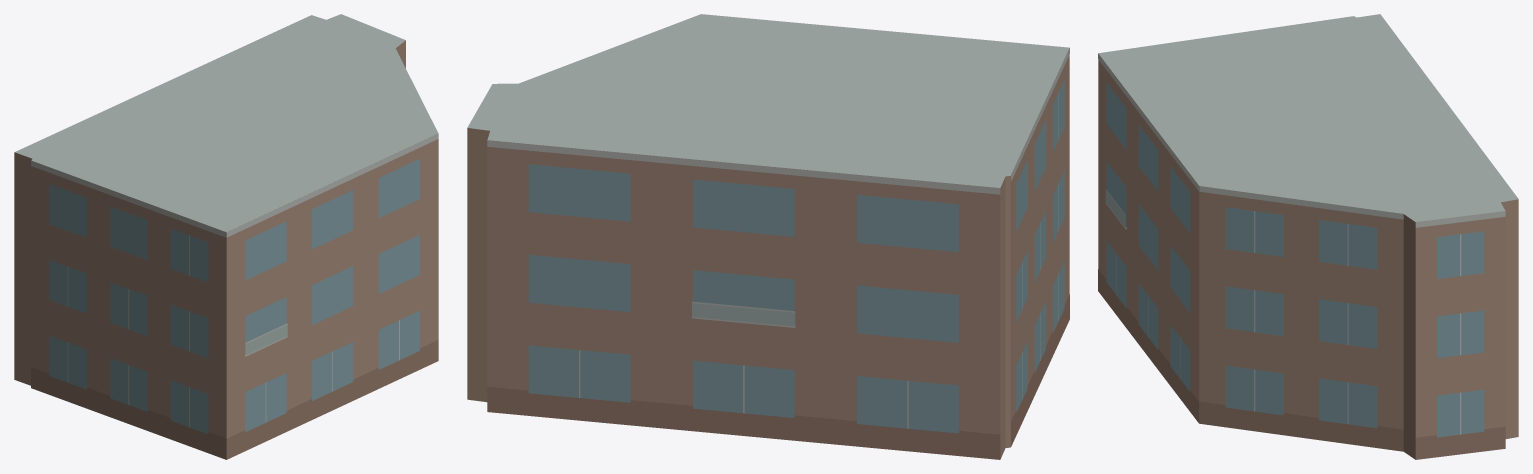
Rendered from survey-upis-32536117.glb.
3 renders of one model, left to right at view 1: azimuth 30°, elevation 25°; view 2: azimuth 150°, elevation 25°; view 3: azimuth 270°, elevation 25°, orthographic. The views are drawn at different scales.
Visible parts, largest first — view 1: survey-upis-32536117.tmp; view 2: survey-upis-32536117.tmp; view 3: survey-upis-32536117.tmp.
Part boxes in pixels (x1,y1,x2,y2): survey-upis-32536117.tmp: (14, 14, 438, 459); survey-upis-32536117.tmp: (467, 14, 1069, 459); survey-upis-32536117.tmp: (1098, 14, 1518, 459).
Size of the model in its own units: 18.97 by 10.1 by 16.21.
